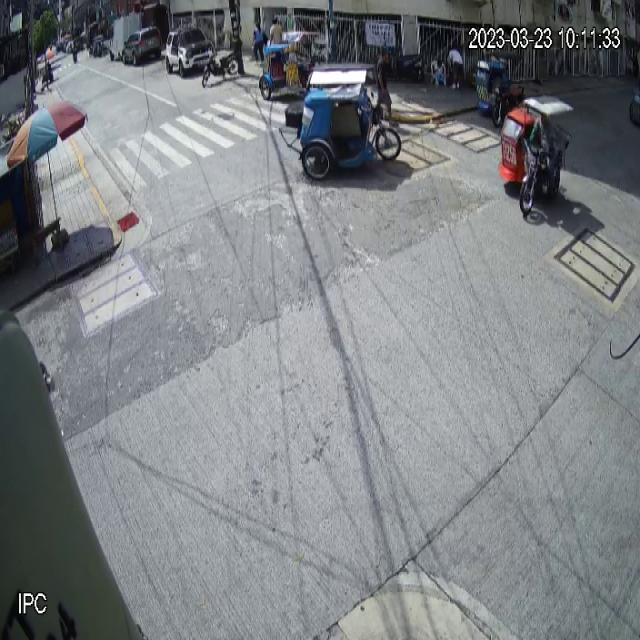Motorcycle: (201, 36, 243, 90)
Tricycle: (284, 61, 403, 184), (497, 94, 575, 218), (259, 30, 319, 103)
